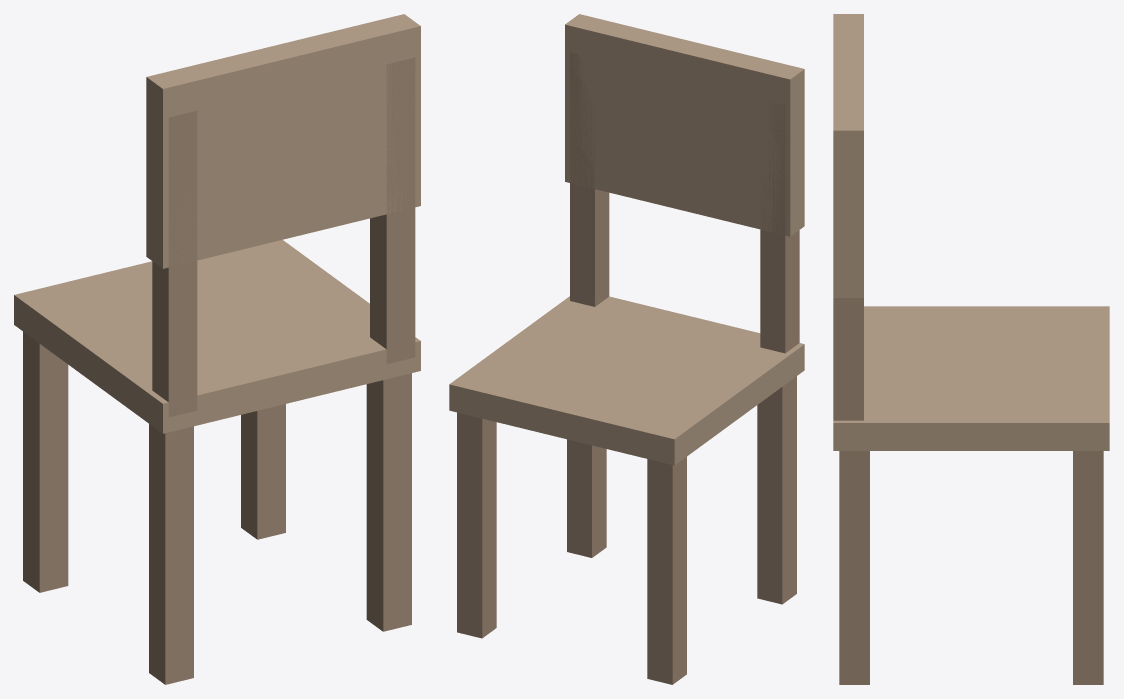
The model's file is bed_moveis_cadeira.glb.
3 views of the same model, side by side, from view 1: azimuth 30°, elevation 25°; view 2: azimuth 150°, elevation 25°; view 3: azimuth 270°, elevation 25° (orthographic). The views are drawn at different scales.
Parts seen in each view (by area): view 1: BED_Moveis_Cadeira_v01; view 2: BED_Moveis_Cadeira_v01; view 3: BED_Moveis_Cadeira_v01.
Part boxes in pixels (x1,y1,x2,y2): BED_Moveis_Cadeira_v01: (14,14,420,684); BED_Moveis_Cadeira_v01: (449,14,804,684); BED_Moveis_Cadeira_v01: (833,14,1109,684).
Bounding box in the file's own units: 0.45 × 1 × 0.45.
